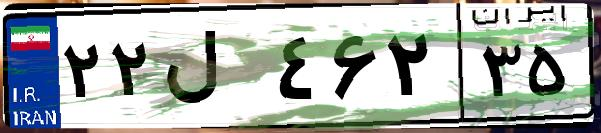2: (385, 28, 445, 110), (57, 26, 110, 100), (110, 28, 158, 98)
3: (475, 38, 525, 113)
4: (270, 28, 330, 110)
5: (525, 38, 570, 115)
6: (330, 28, 385, 110)
ل: (158, 20, 270, 120)
